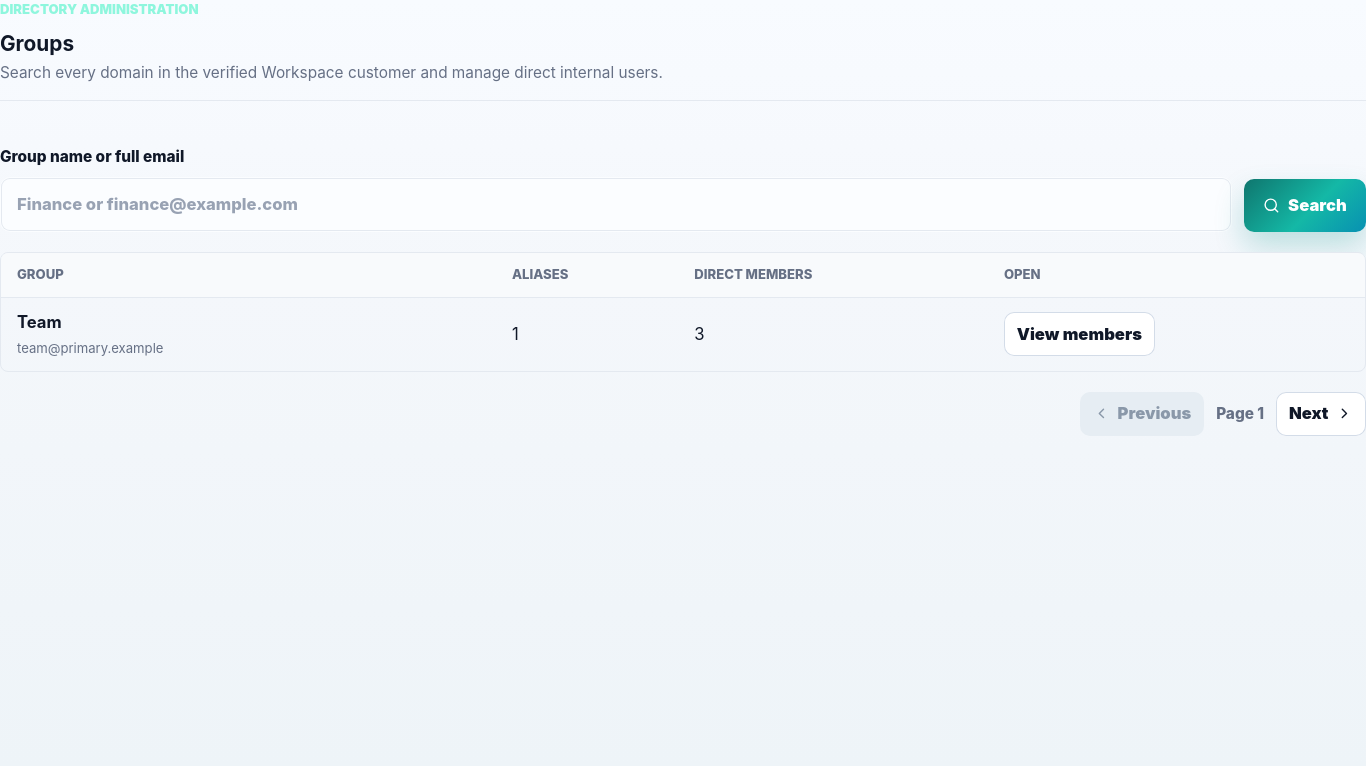
GroupManagement › renders read-only controls for viewers
Click the button "View members" at (1079, 334), box [1004,312,1155,356]
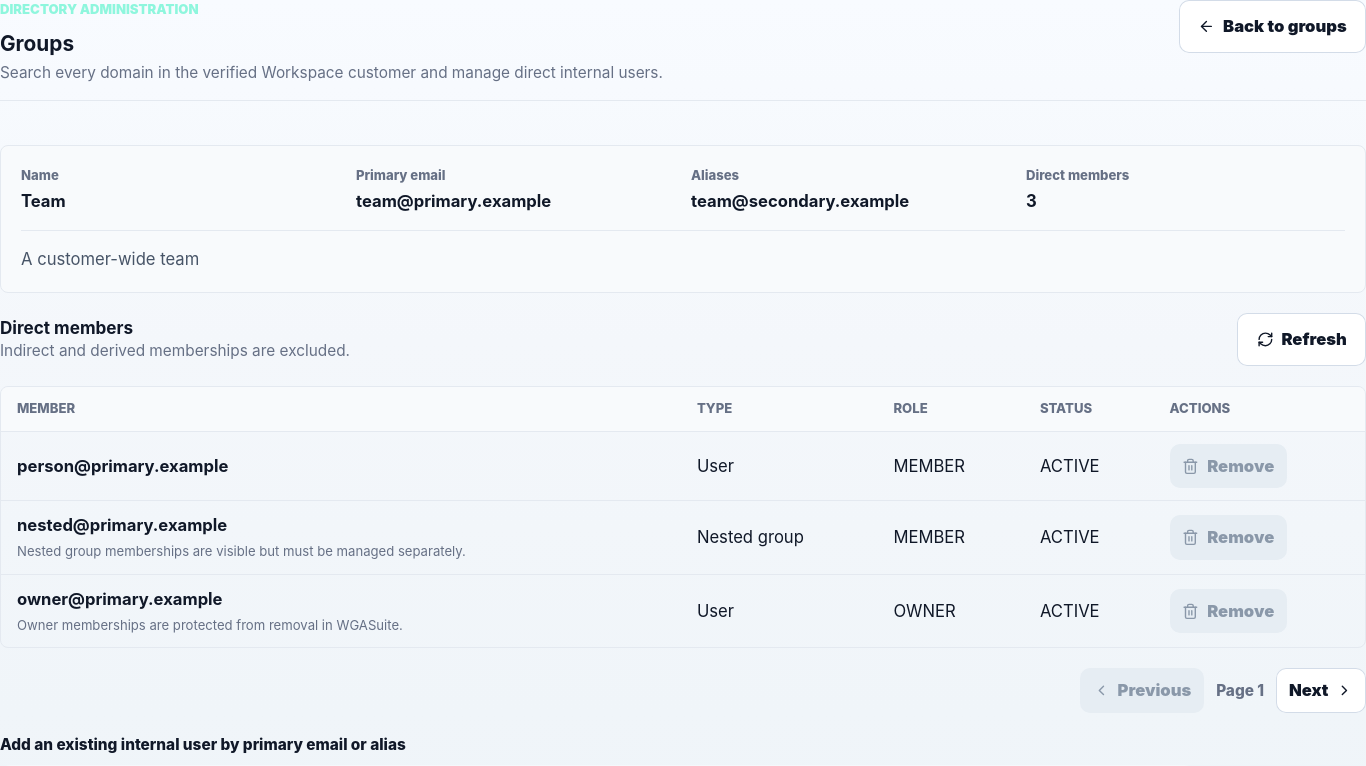
expect the button "Remove" in the row of "person@primary.example" is disabled: met, box [1170,444,1287,488]
expect the button "Remove" in the row of "nested@primary.example" is disabled: met, box [1170,516,1287,560]
expect the button "Remove" in the row of "owner@primary.example" is disabled: met, box [1170,589,1287,633]
